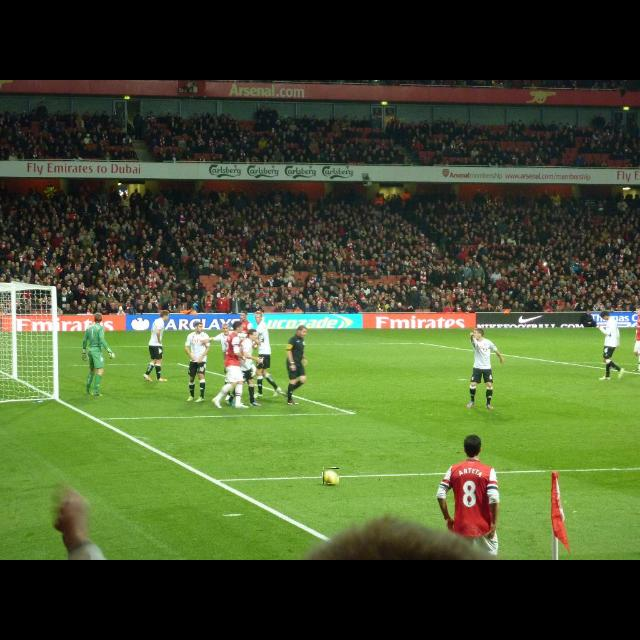Football: (323, 468, 339, 484)
